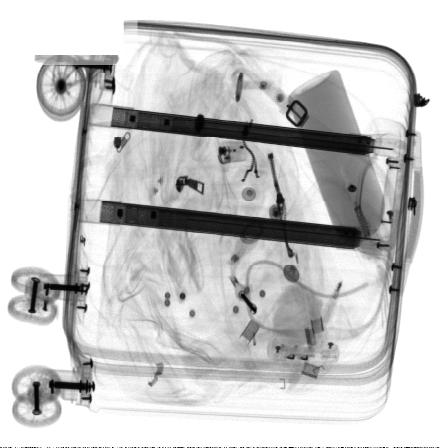Lighter: (217, 141, 247, 164)
